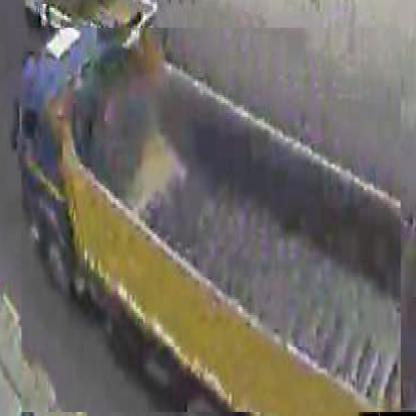truck: (23, 29, 403, 415)
